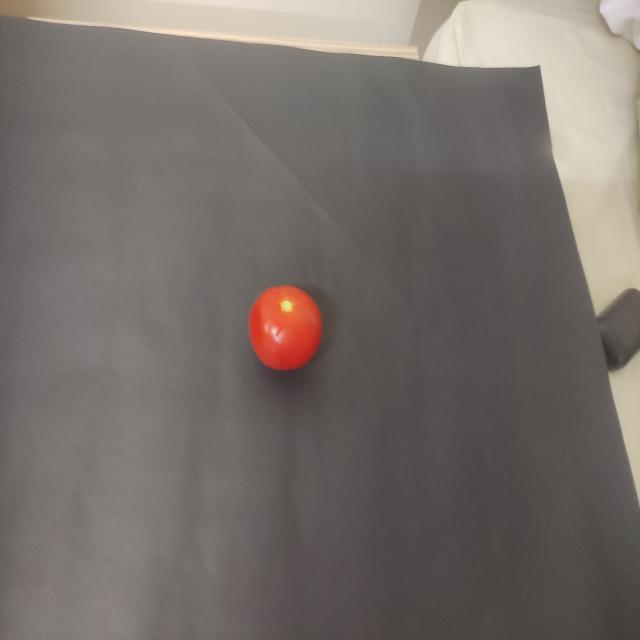kirmizi: (235, 266, 335, 387)
